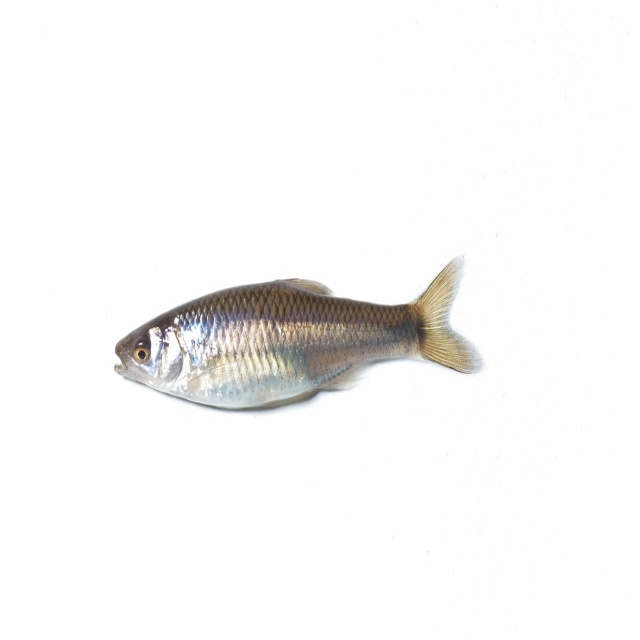Fish: (114, 252, 472, 408)
